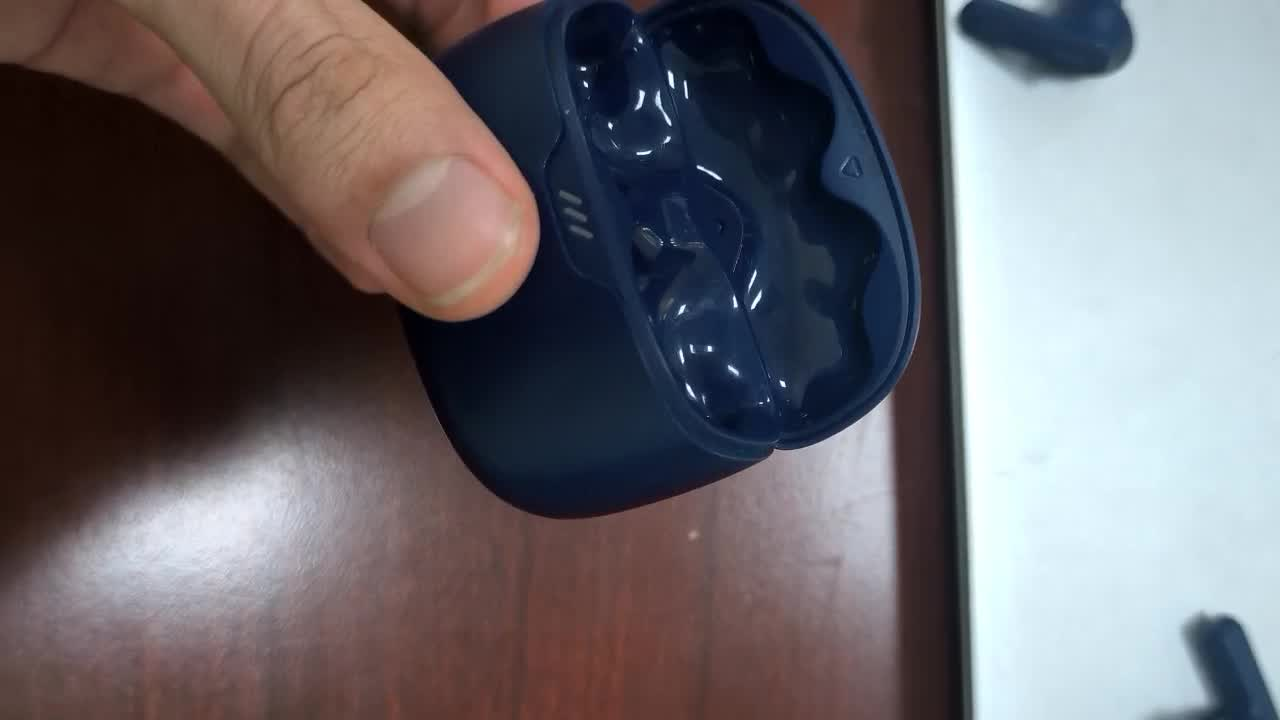Case: (364, 4, 946, 528)
Earbud: (959, 0, 1133, 74)
